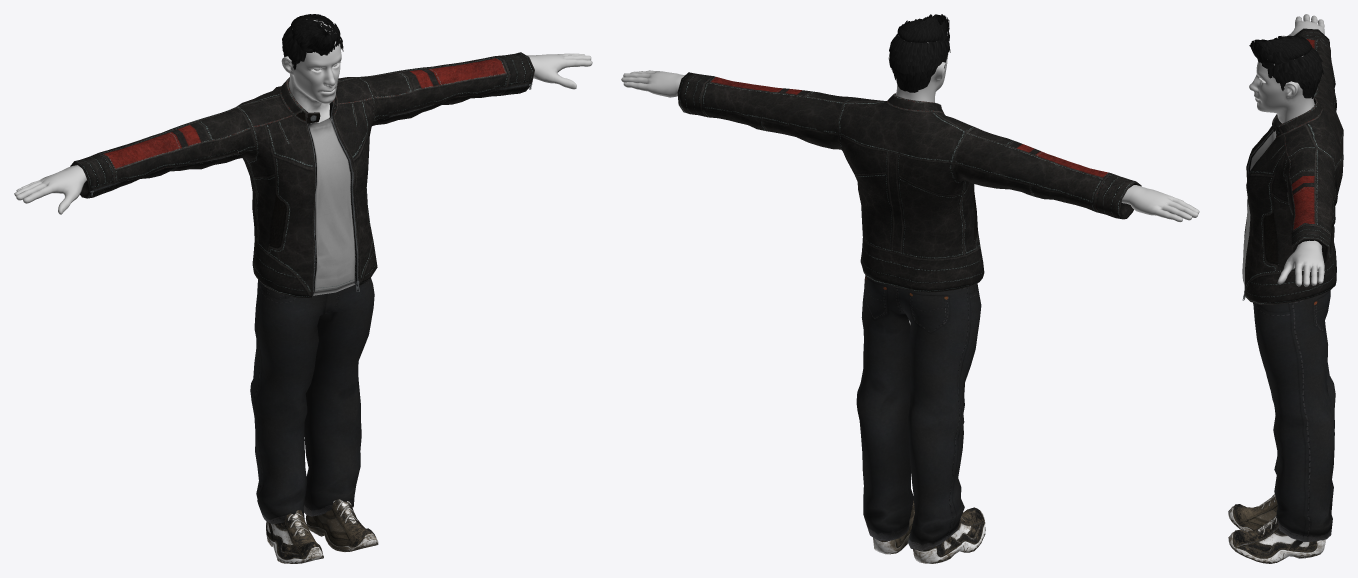
File: seventeenth_clothes_hair.obj
The picture shows the model from 3 angles, left to right: view 1: azimuth 30°, elevation 25°; view 2: azimuth 150°, elevation 25°; view 3: azimuth 270°, elevation 25°; orthographic projection. The views are drawn at different scales.
Parts seen in each view (by area): view 1: Tops, Bottoms, Body, Shoes, Hair; view 2: Tops, Bottoms, Body, Hair, Shoes; view 3: Tops, Bottoms, Body, Shoes, Hair.
Part boxes in pixels (<box>): Tops: <box>70,52,534,297</box>; Bottoms: <box>250,278,374,524</box>; Body: <box>14,19,592,214</box>; Shoes: <box>266,499,378,563</box>; Hair: <box>282,14,343,69</box>; Tops: <box>677,72,1141,292</box>; Bottoms: <box>856,275,981,550</box>; Body: <box>621,35,1199,324</box>; Hair: <box>889,14,950,92</box>; Shoes: <box>873,499,985,563</box>; Tops: <box>1242,28,1343,304</box>; Bottoms: <box>1253,290,1335,541</box>; Body: <box>1249,14,1324,286</box>; Shoes: <box>1228,494,1325,563</box>; Hair: <box>1249,35,1323,98</box>.
Size of the model in its own units: 21.36 by 18.64 by 3.86.
